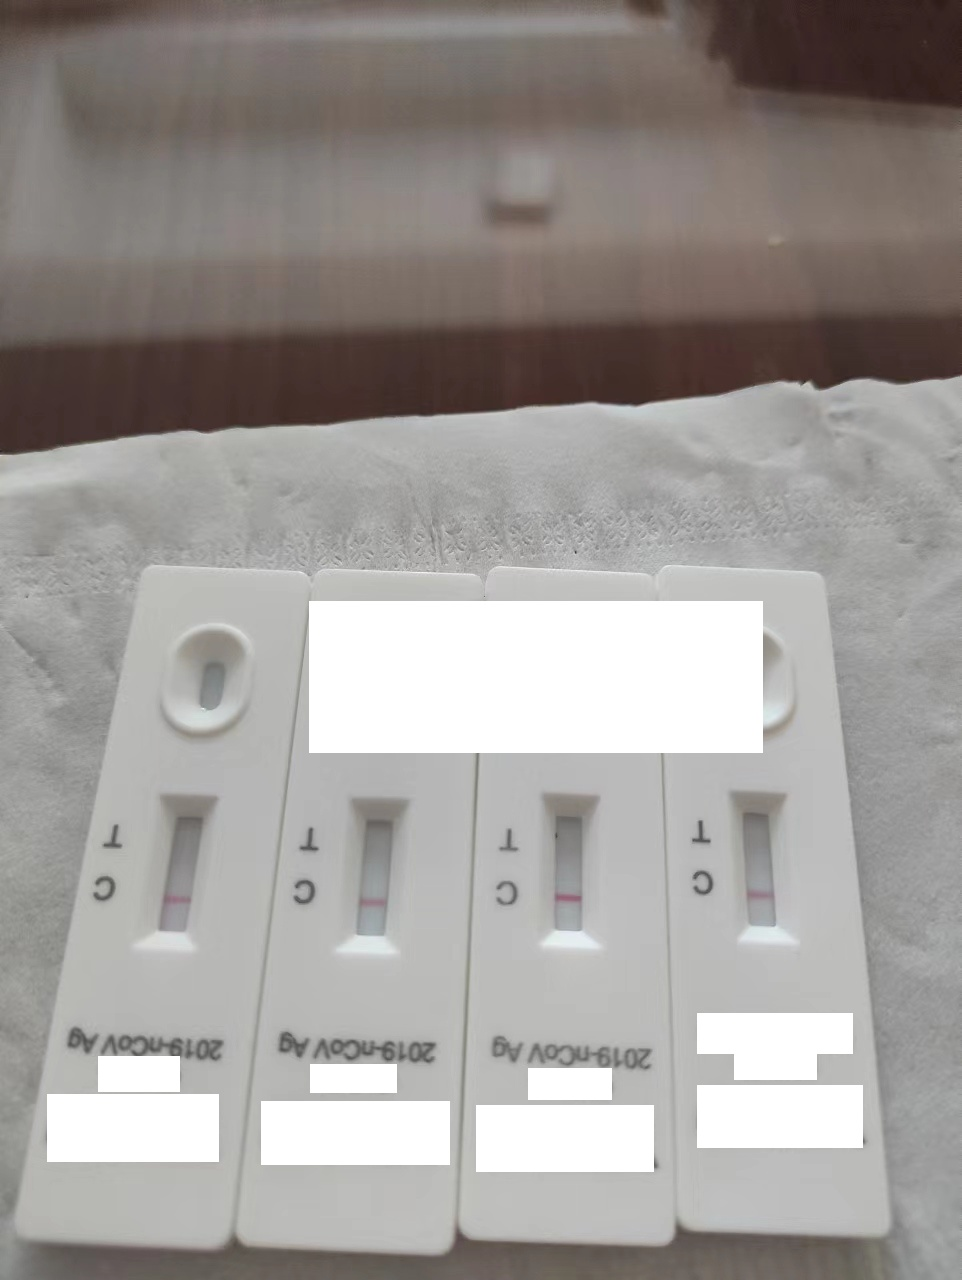negative: (145, 793, 216, 944), (342, 797, 411, 950), (727, 788, 791, 942), (536, 790, 600, 941)
